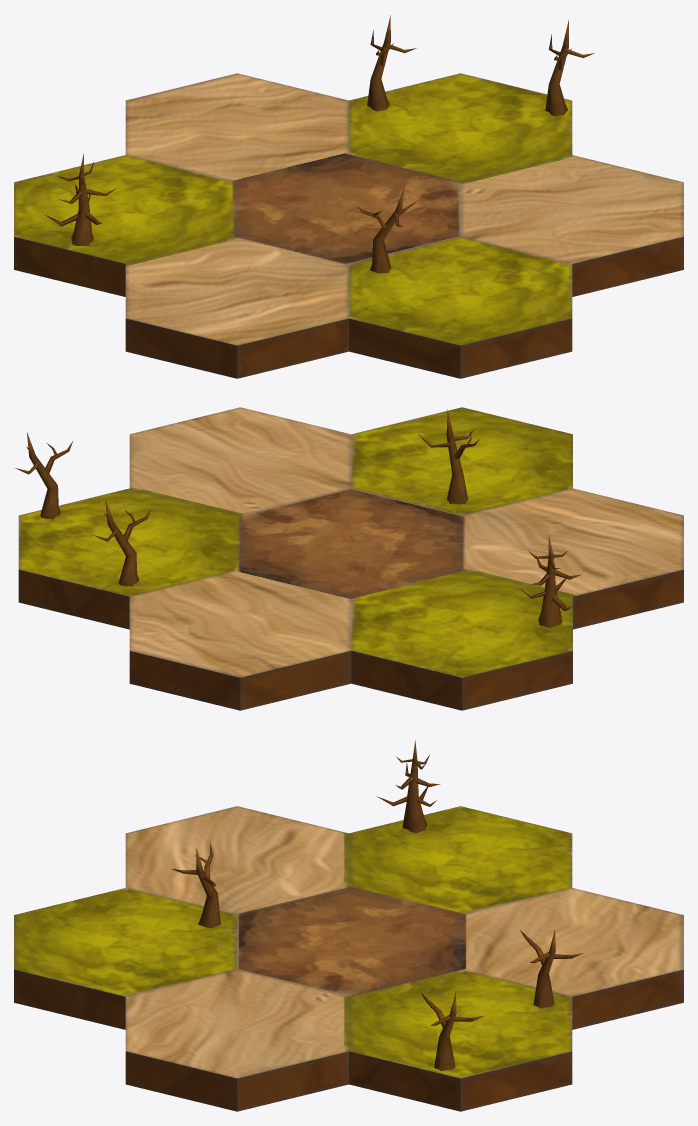
Rendered from Tile_Desert2.fbx.
The picture shows the model from 3 angles, top to bottom: view 1: azimuth 30°, elevation 25°; view 2: azimuth 150°, elevation 25°; view 3: azimuth 270°, elevation 25°; orthographic projection.
Parts seen in each view (by area): view 1: desertTile2, dryTree2_02, dryTree03, dryTree04, dryTree05; view 2: desertTile2, dryTree2_02, dryTree05, dryTree04, dryTree03; view 3: desertTile2, dryTree2_02, dryTree04, dryTree03, dryTree05.
Part boxes in pixels (left/top/right/bottom): desertTile2: left=14, top=73, right=683, bottom=378; dryTree2_02: left=45, top=153, right=116, bottom=245; dryTree03: left=367, top=15, right=416, bottom=111; dryTree04: left=545, top=20, right=594, bottom=116; dryTree05: left=357, top=187, right=417, bottom=273; desertTile2: left=18, top=407, right=683, bottom=710; dryTree2_02: left=519, top=534, right=581, bottom=627; dryTree05: left=418, top=409, right=480, bottom=504; dryTree04: left=15, top=431, right=72, bottom=519; dryTree03: left=93, top=499, right=151, bottom=586; desertTile2: left=14, top=806, right=683, bottom=1111; dryTree2_02: left=376, top=740, right=440, bottom=833; dryTree04: left=420, top=991, right=484, bottom=1071; dryTree03: left=520, top=929, right=583, bottom=1008; dryTree05: left=171, top=843, right=220, bottom=927.
Bounding box in the file's own units: 130 × 26.95 × 133.
